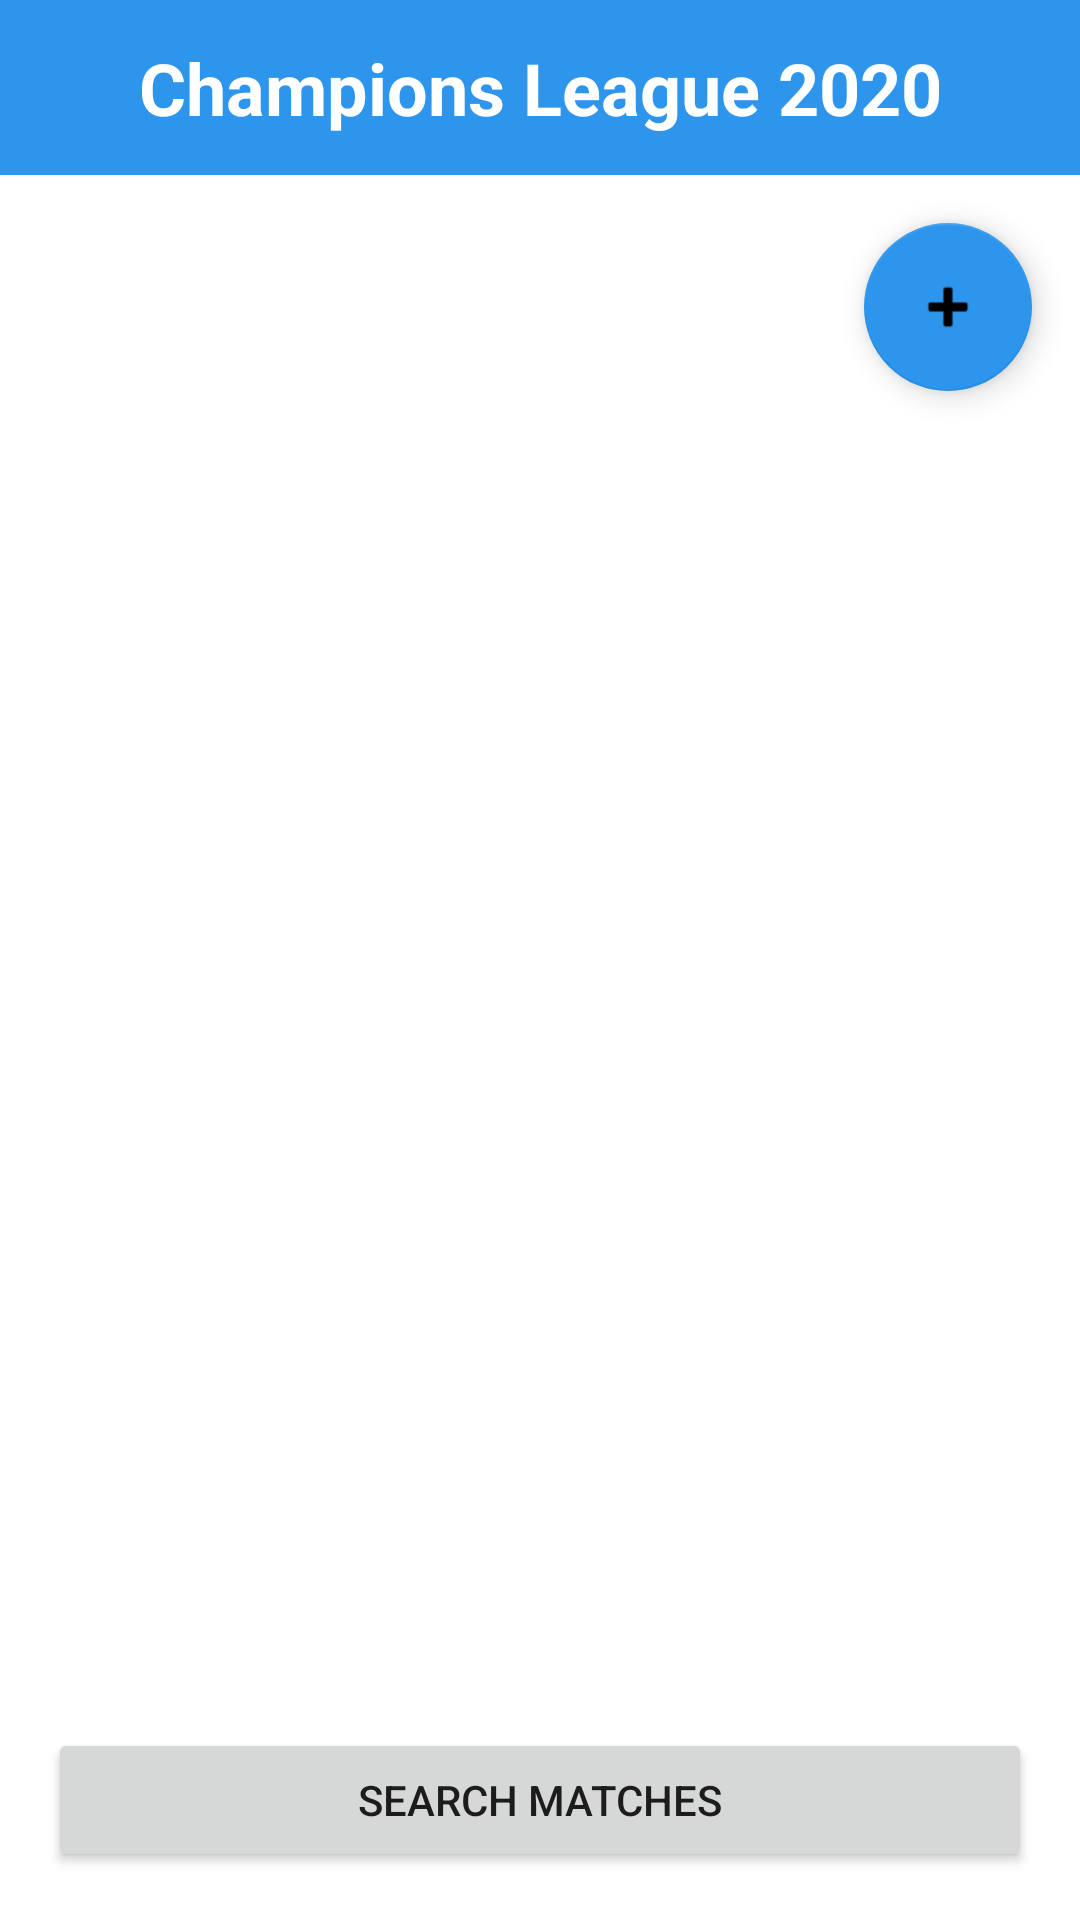

Screen size 1080×1920. Icon name, then its center in pixels as (x=x, y=y):
Add Match: (x=948, y=307)
